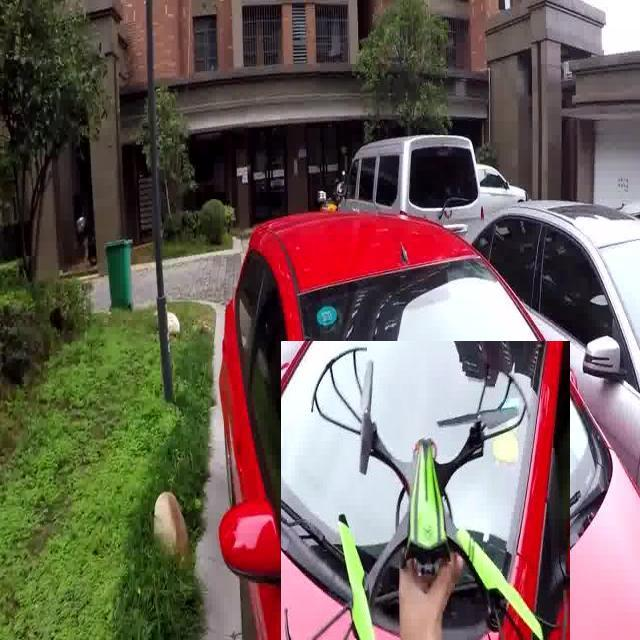drone: (281, 341, 570, 640)
